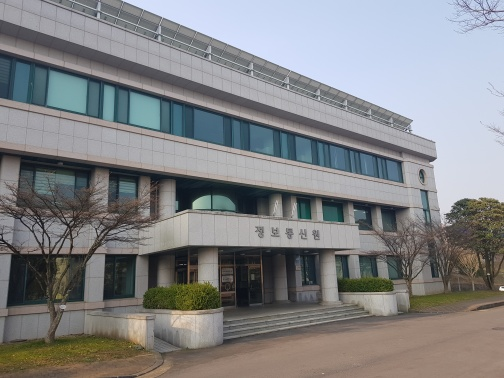Information Telecommunication Center: (4, 8, 451, 318), (167, 250, 353, 306), (238, 213, 341, 248)
